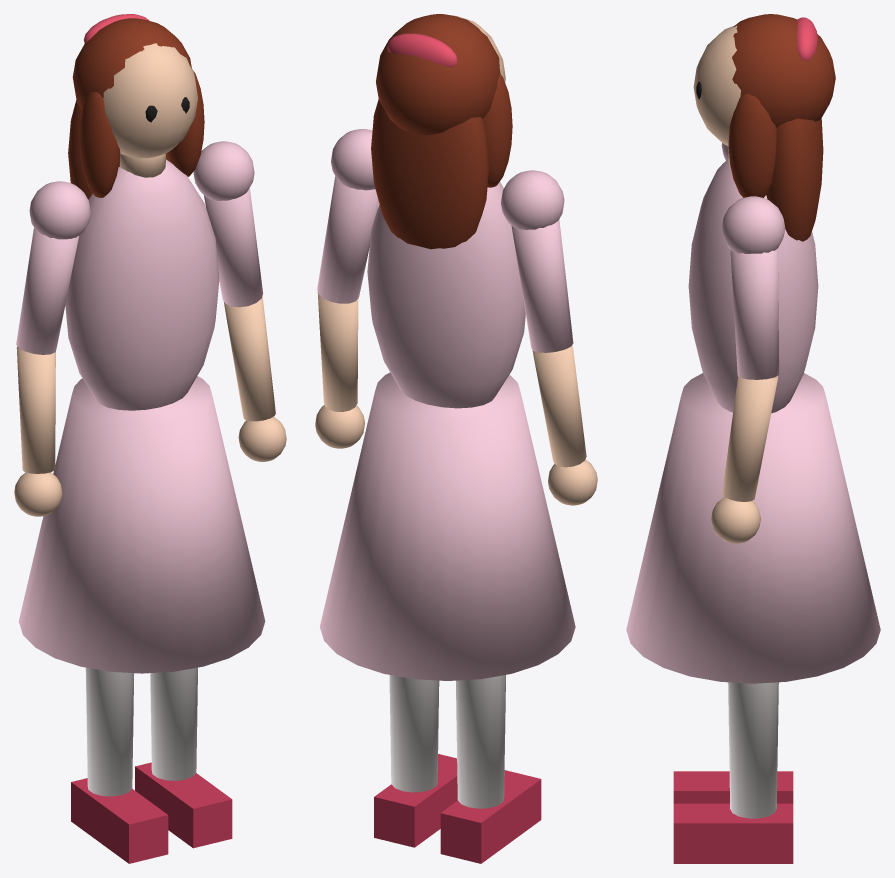
Rendered from lily.glb.
The picture shows the model from 3 angles, left to right: view 1: azimuth 30°, elevation 25°; view 2: azimuth 150°, elevation 25°; view 3: azimuth 270°, elevation 25°; orthographic projection. The views are drawn at different scales.
Visible parts, largest first — view 1: lily; view 2: lily; view 3: lily.
Boxes of the visible parts, box(x1,y1,x2,y2) form: lily: box(14, 14, 286, 863); lily: box(315, 14, 597, 863); lily: box(626, 14, 880, 863).
Bounding box in the file's own units: 0.4939 × 1.41 × 0.3963.
